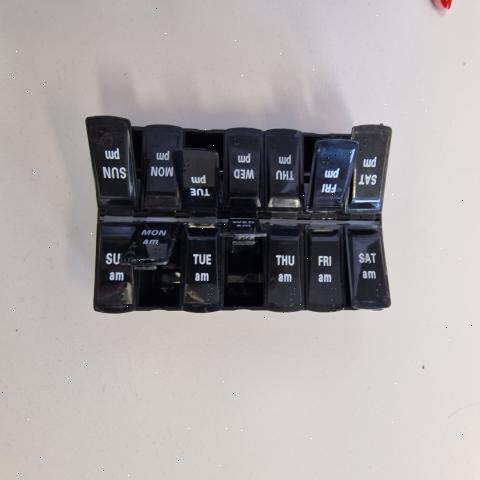Open: (121, 224, 183, 310), (171, 130, 225, 207), (303, 134, 356, 210), (224, 221, 265, 307), (129, 119, 143, 207)
